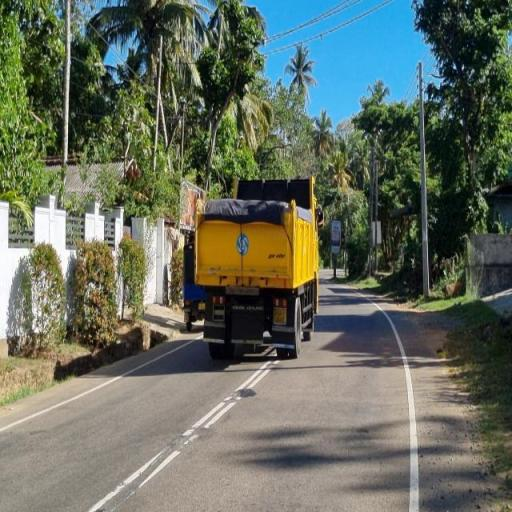double_white_line: (183, 362, 277, 444)
